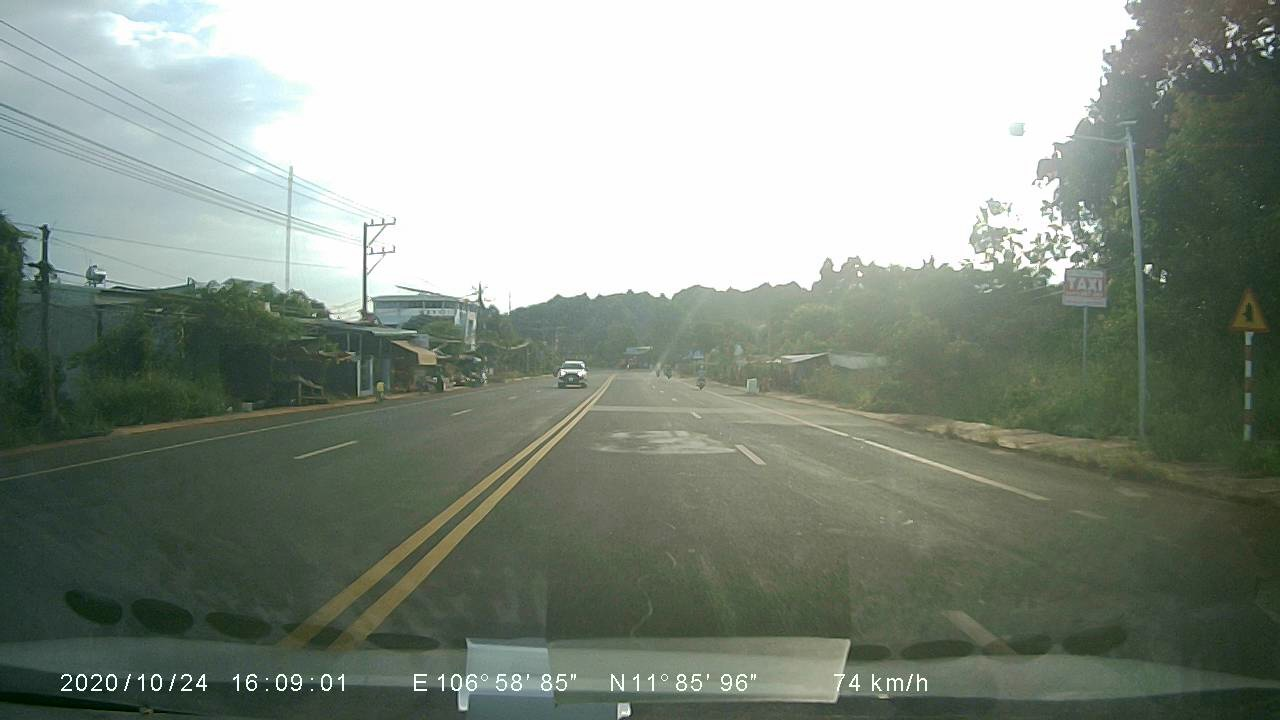Giao nhau voi duong khong uu tien: (1227, 282, 1270, 333)
